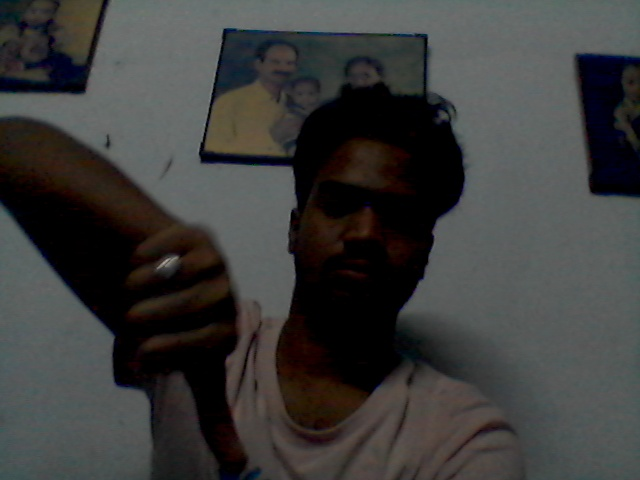Please: (102, 218, 267, 476)
